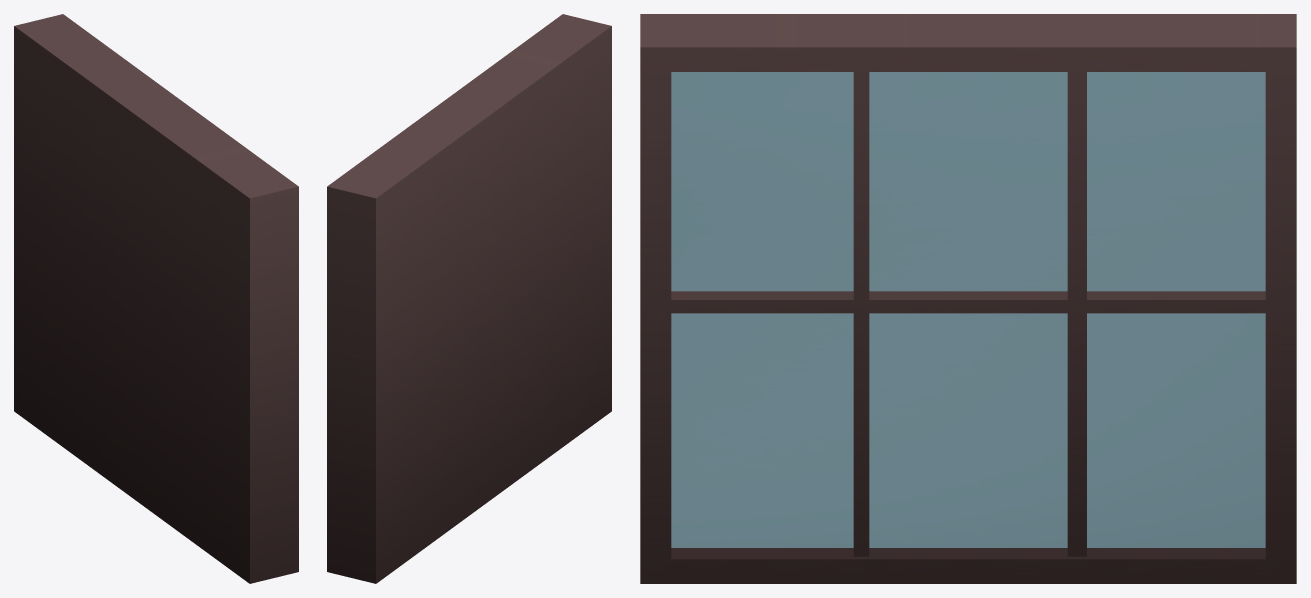
The model's file is JanelaB Casa a.fbx.
3 renders of one model, left to right at view 1: azimuth 30°, elevation 25°; view 2: azimuth 150°, elevation 25°; view 3: azimuth 270°, elevation 25°, orthographic. The views are drawn at different scales.
Visible parts, largest first — view 1: pCube80; view 2: pCube80; view 3: pCube80.
Boxes of the visible parts, box(x1,y1,x2,y2) form: pCube80: box(14, 14, 298, 583); pCube80: box(327, 14, 611, 583); pCube80: box(640, 14, 1296, 583).
Bounding box in the file's own units: 0.1238 × 0.9306 × 1.03.
